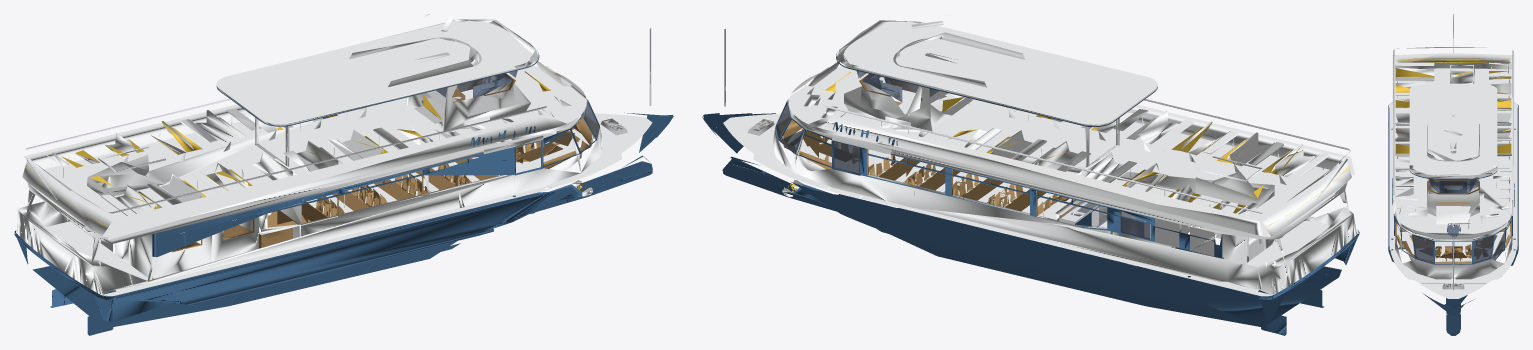
The model's file is ferry_concept_realistic.glb.
3 renders of one model, left to right at view 1: azimuth 30°, elevation 25°; view 2: azimuth 150°, elevation 25°; view 3: azimuth 270°, elevation 25°, orthographic. The views are drawn at different scales.
Parts seen in each view (by area): view 1: Material2 (×2); view 2: Material2 (×2); view 3: Material2 (×2).
Boxes of the visible parts, bbox=[...] form: Material2 (×2): bbox=[14, 14, 673, 335]; Material2 (×2): bbox=[702, 14, 1359, 335]; Material2 (×2): bbox=[1388, 14, 1518, 335].
Bounding box in the file's own units: 29.47 × 9.61 × 7.53.
2 materials, 2 textured.
